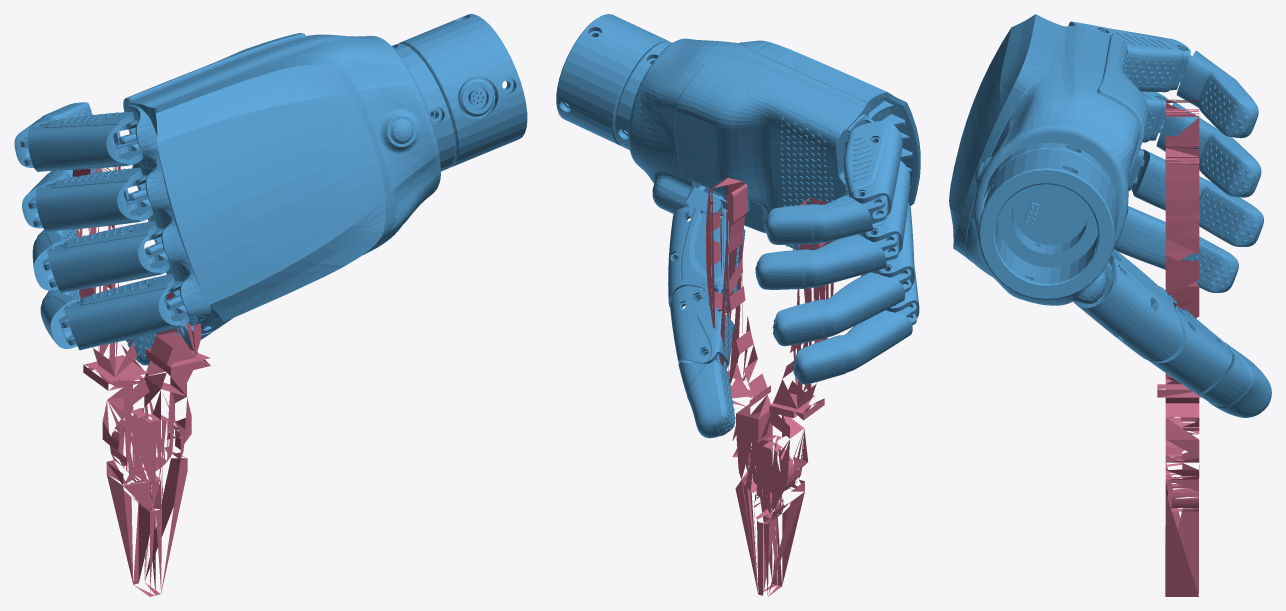
The picture shows the model from 3 angles, left to right: view 1: azimuth 30°, elevation 25°; view 2: azimuth 150°, elevation 25°; view 3: azimuth 270°, elevation 25°; orthographic projection. The views are drawn at different scales.
Visible parts, largest first — view 1: 0; view 2: 0; view 3: 0.
Boxes of the visible parts, left/top/right/bottom form: 0: left=14, top=14, right=527, bottom=596; 0: left=556, top=14, right=920, bottom=596; 0: left=949, top=14, right=1271, bottom=596.
Size of the model in its own units: 0.1824 by 0.2302 by 0.1187.
